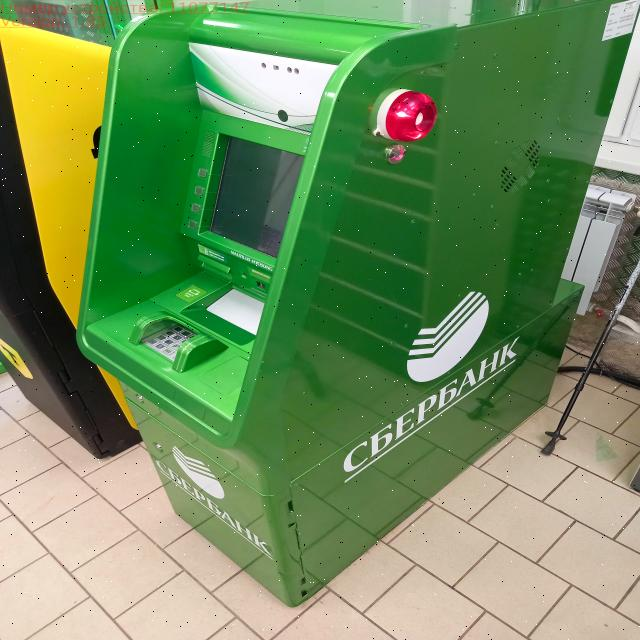bank: (73, 0, 640, 599)
